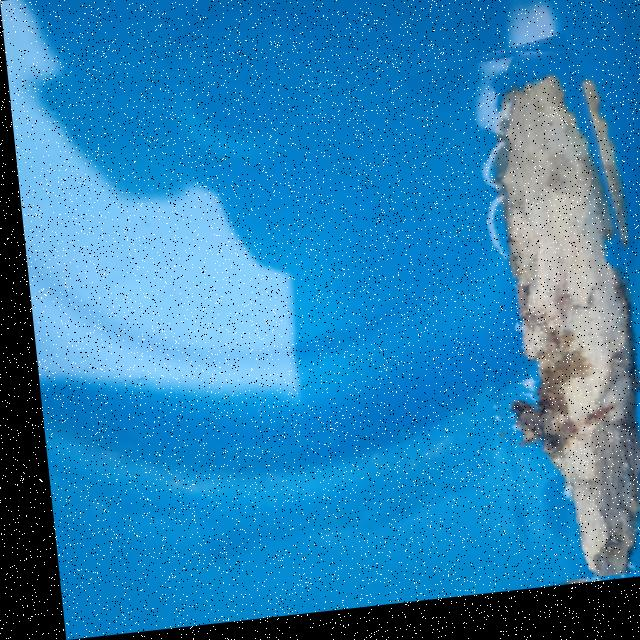wood: (420, 44, 640, 599)
